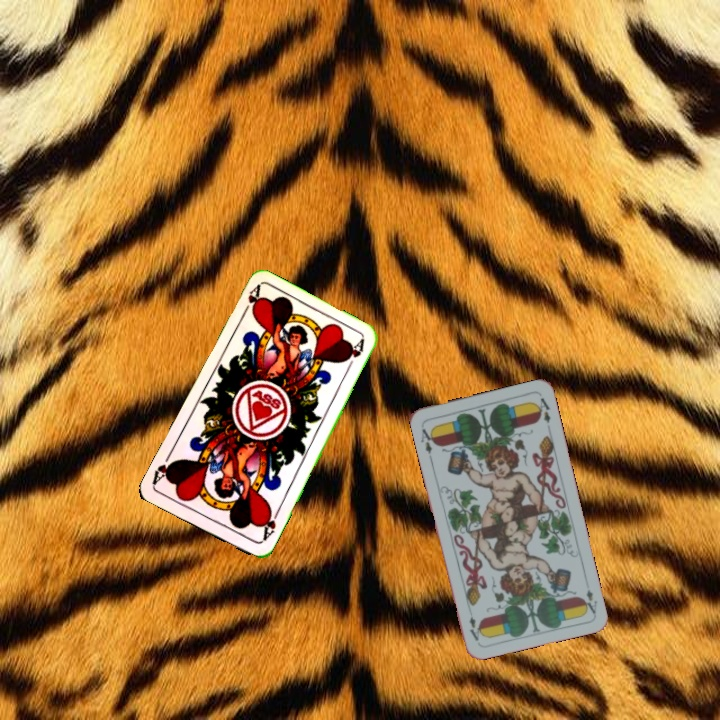EA: (417, 425, 438, 462), (579, 585, 599, 616)
HA: (237, 282, 264, 320), (258, 504, 282, 544)
